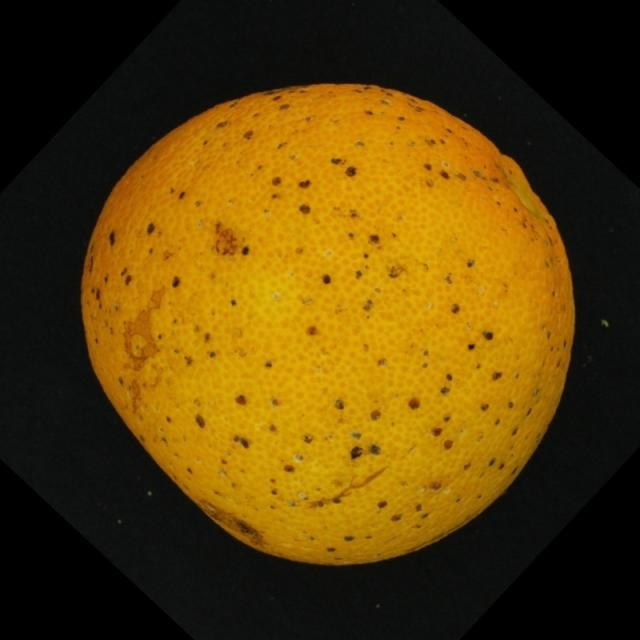grenning: (62, 50, 593, 592)
